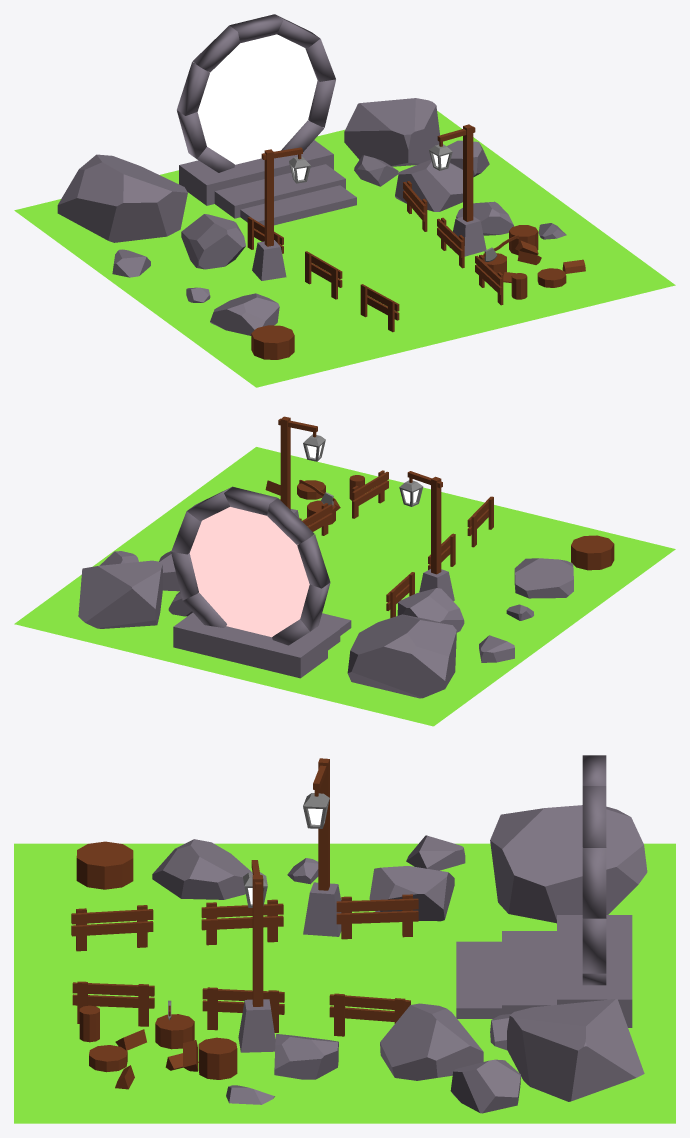
File: portal.glb
The picture shows the model from 3 angles, top to bottom: view 1: azimuth 30°, elevation 25°; view 2: azimuth 150°, elevation 25°; view 3: azimuth 270°, elevation 25°; orthographic projection. The views are drawn at different scales.
Visible parts, largest first — view 1: floor_10, portalLight_3, rock.017_28, portal frame_19, rock.016_27, portal step_20, portal step.001_21, rock.019_30, rock.018_29, portal step.002_22, rock.015_26, trunk.004_42 (+14 smaller); view 2: floor_10, portalLight_3, portal frame_19, rock.017_28, portal step_20, rock.016_27, rock.015_26, rock.019_30, trunk.004_42, pole wood.001_17, pole wood_14, fence.004_4 (+6 smaller); view 3: floor_10, rock.017_28, rock.016_27, portal frame_19, rock.018_29, portal step_20, portal step.001_21, rock.015_26, portal step.002_22, rock.019_30, rock.014_25, rock.020_31 (+20 smaller).
Boxes of the visible parts, <box> form: floor_10: <box>14,110,675,387</box>; portalLight_3: <box>197,34,317,164</box>; rock.017_28: <box>57,154,187,242</box>; portal frame_19: <box>177,14,335,172</box>; rock.016_27: <box>344,98,439,166</box>; portal step_20: <box>179,140,333,205</box>; portal step.001_21: <box>214,164,345,218</box>; rock.019_30: <box>181,214,245,269</box>; rock.018_29: <box>395,159,462,211</box>; portal step.002_22: <box>240,185,356,225</box>; rock.015_26: <box>210,293,279,335</box>; trunk.004_42: <box>251,325,294,359</box>; floor_10: <box>14,447,675,726</box>; portalLight_3: <box>189,507,309,637</box>; portal frame_19: <box>171,486,330,645</box>; rock.017_28: <box>347,614,456,698</box>; portal step_20: <box>173,612,327,678</box>; rock.016_27: <box>78,560,162,628</box>; rock.015_26: <box>514,558,573,598</box>; rock.019_30: <box>397,588,464,632</box>; trunk.004_42: <box>571,535,614,570</box>; pole wood.001_17: <box>407,471,442,574</box>; pole wood_14: <box>278,416,317,509</box>; fence.004_4: <box>352,470,388,518</box>; floor_10: <box>14,843,675,1123</box>; rock.017_28: <box>490,805,647,923</box>; rock.016_27: <box>507,999,644,1101</box>; portal frame_19: <box>582,755,606,985</box>; rock.018_29: <box>380,1003,483,1080</box>; portal step_20: <box>557,915,632,1027</box>; portal step.001_21: <box>502,931,556,1014</box>; rock.015_26: <box>152,839,251,899</box>; portal step.002_22: <box>456,941,501,1018</box>; rock.019_30: <box>369,866,454,921</box>; rock.014_25: <box>450,1059,520,1113</box>; rock.020_31: <box>274,1034,338,1079</box>.
Size of the model in its own units: 6.6 by 2.38 by 6.6.
